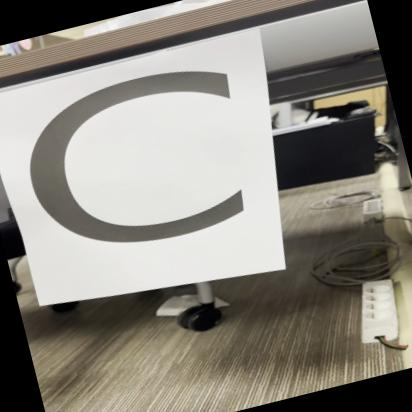seat: (0, 29, 312, 313)
